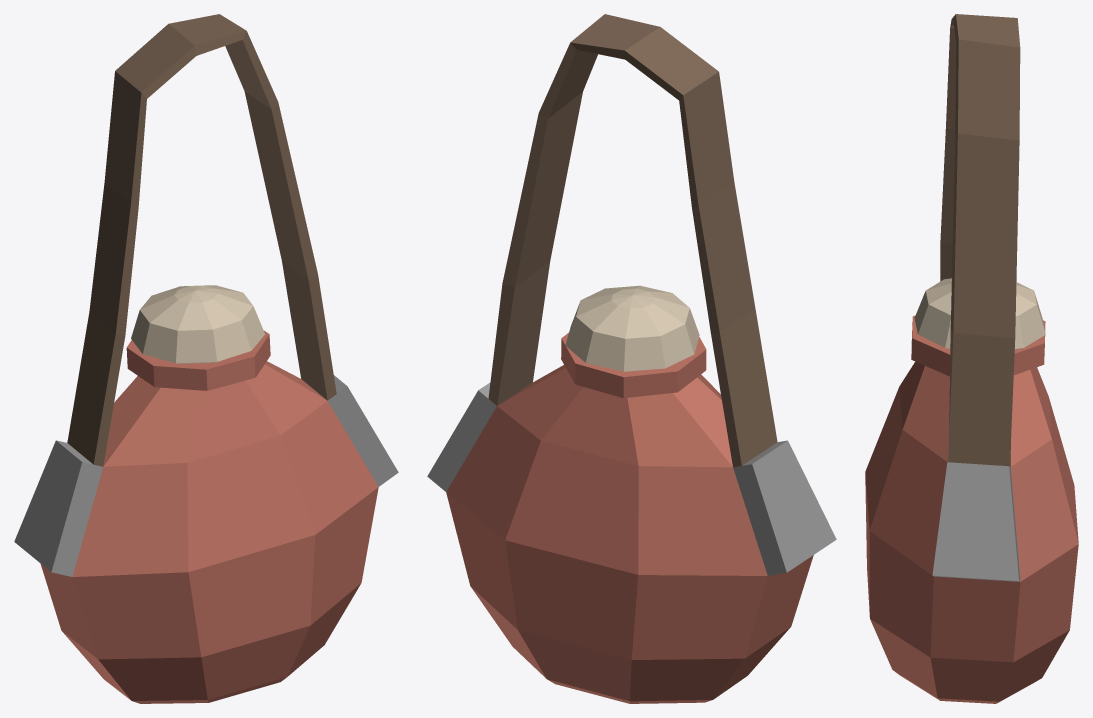
Rendered from Flask.fbx.
3 views of the same model, side by side, from view 1: azimuth 30°, elevation 25°; view 2: azimuth 150°, elevation 25°; view 3: azimuth 270°, elevation 25° (orthographic).
Visible parts, largest first — view 1: Flask; view 2: Flask; view 3: Flask.
Part boxes in pixels (left/top/right/bottom): Flask: left=14, top=14, right=398, bottom=703; Flask: left=427, top=14, right=836, bottom=703; Flask: left=865, top=14, right=1078, bottom=703.
Size of the model in its own units: 68.54 by 35.38 by 117.
